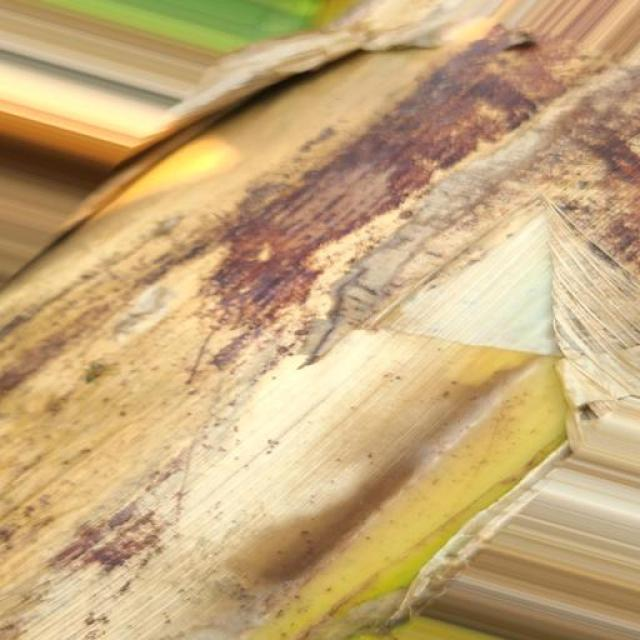Anthracnose: (0, 34, 640, 526)
